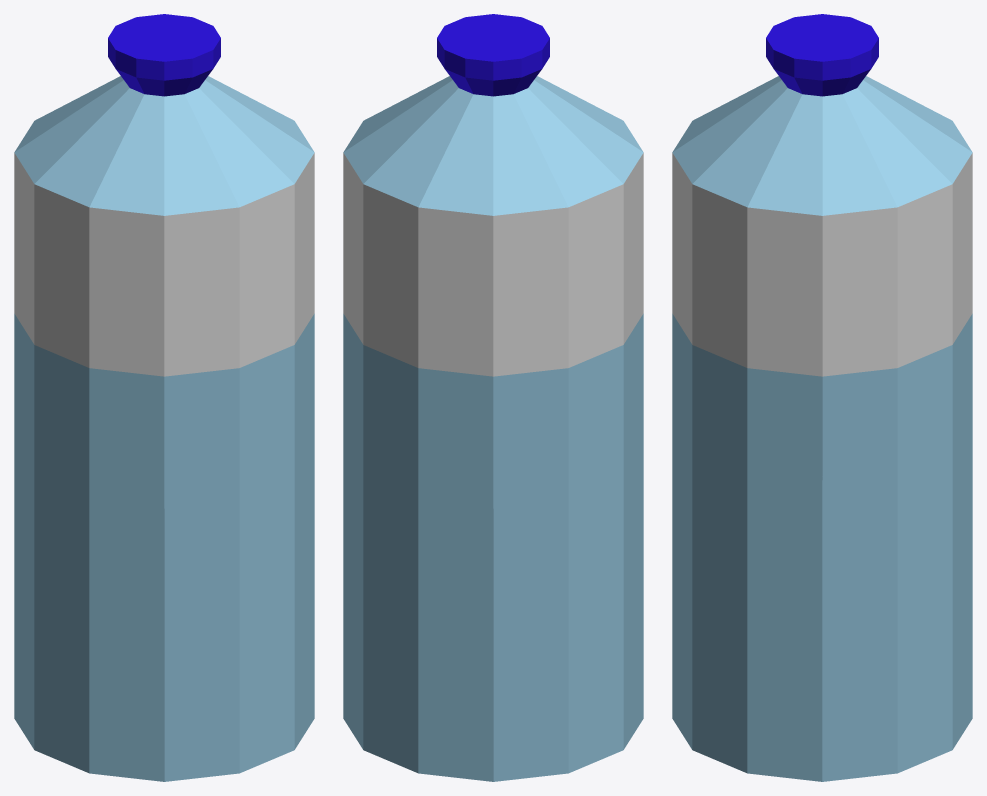
File: botol.fbx
3 renders of one model, left to right at view 1: azimuth 30°, elevation 25°; view 2: azimuth 150°, elevation 25°; view 3: azimuth 270°, elevation 25°, orthographic.
Parts seen in each view (by area): view 1: Cylinder; view 2: Cylinder; view 3: Cylinder.
Part boxes in pixels (x1,y1,x2,y2): Cylinder: [14, 14, 314, 781]; Cylinder: [343, 14, 643, 781]; Cylinder: [672, 14, 972, 781].
Size of the model in its own units: 10 by 25 by 10.
